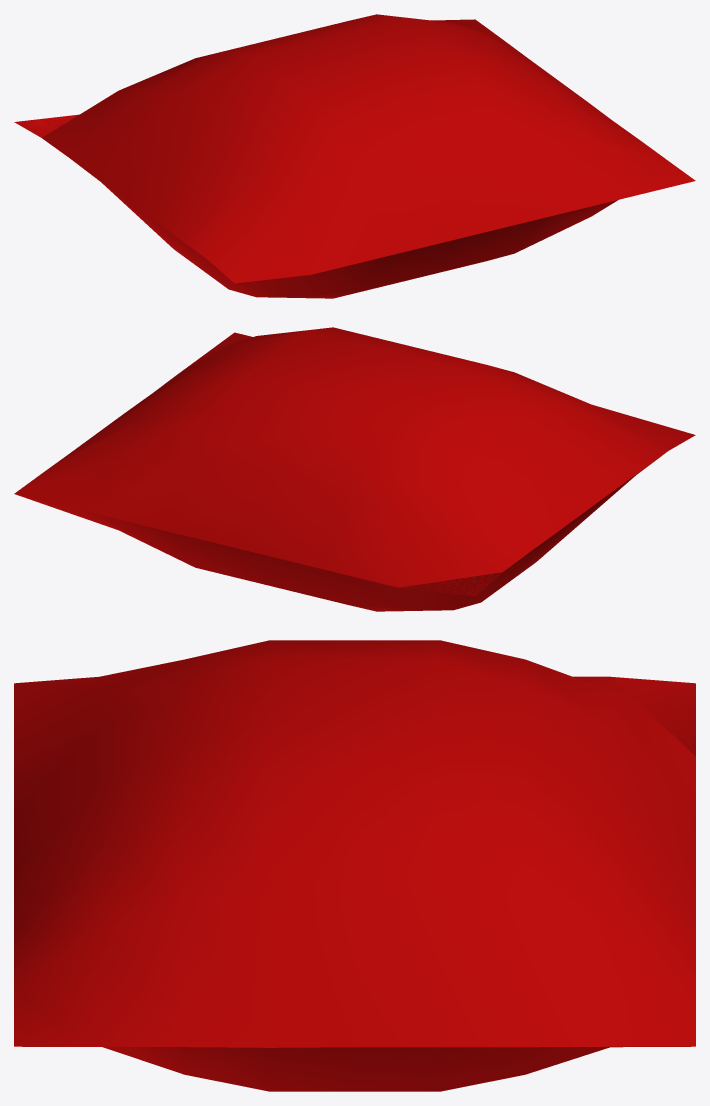
Rendered from Pillow.FBX.
3 renders of one model, top to bottom at view 1: azimuth 30°, elevation 25°; view 2: azimuth 150°, elevation 25°; view 3: azimuth 270°, elevation 25°, orthographic. The views are drawn at different scales.
Visible parts, largest first — view 1: Box001; view 2: Box001; view 3: Box001.
Part boxes in pixels (box(x1,y1,x2,y2)): Box001: box(14, 14, 695, 298); Box001: box(14, 327, 695, 611); Box001: box(14, 640, 695, 1091).
Size of the model in its own units: 102 by 41.96 by 84.38.
